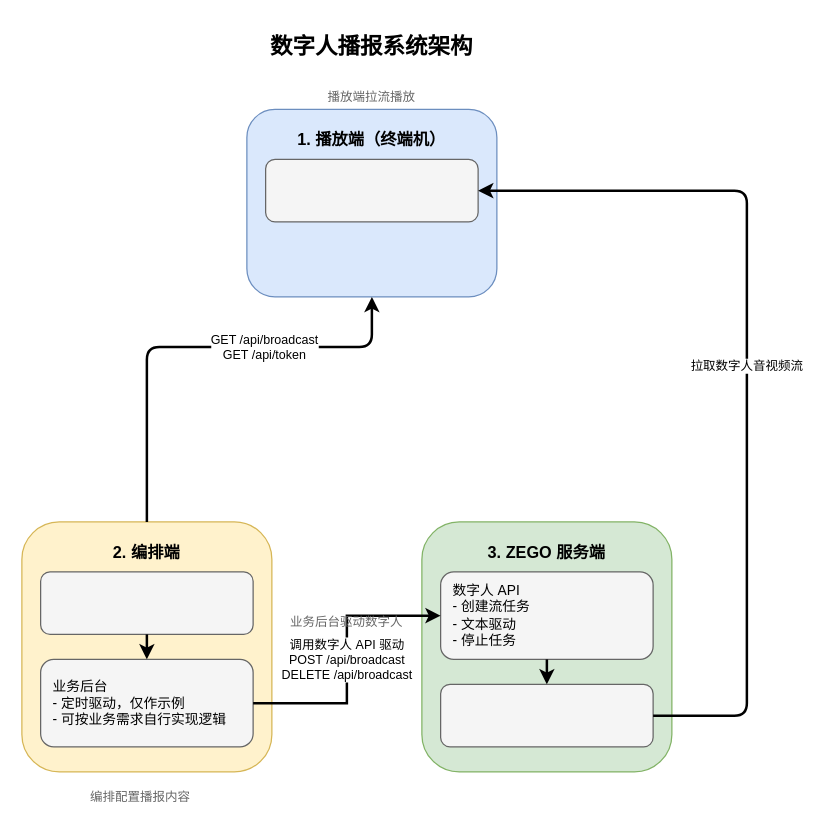
The diagram is 825 pixels wide and 830 high, and some of its shapes have lost their labels. Here are the shapes that lost their labels. From the top down, the box of each, then its label:
(264, 158, 478, 222): ZEGO Express SDK 拉流播放
(39, 571, 253, 634): 编排面板 (Web UI)
(439, 683, 653, 747): 实时音视频云 (RTC) - 推送音视频流
